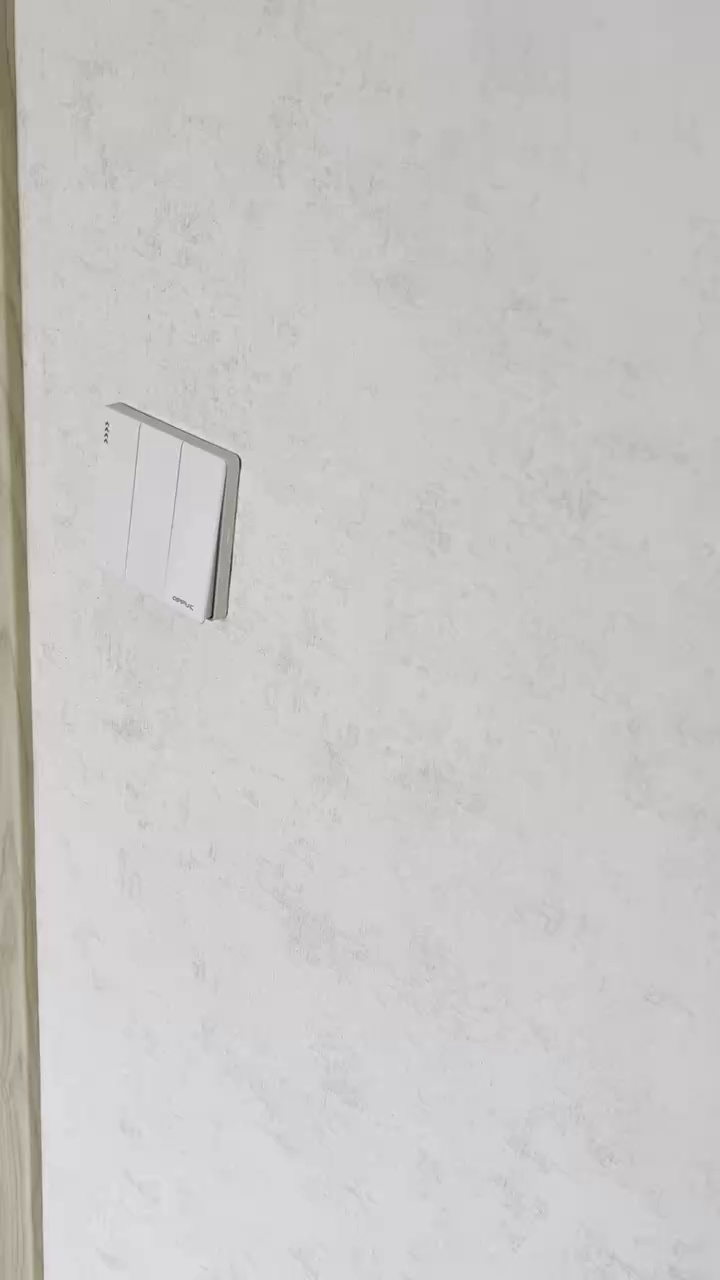button: (81, 400, 243, 629)
